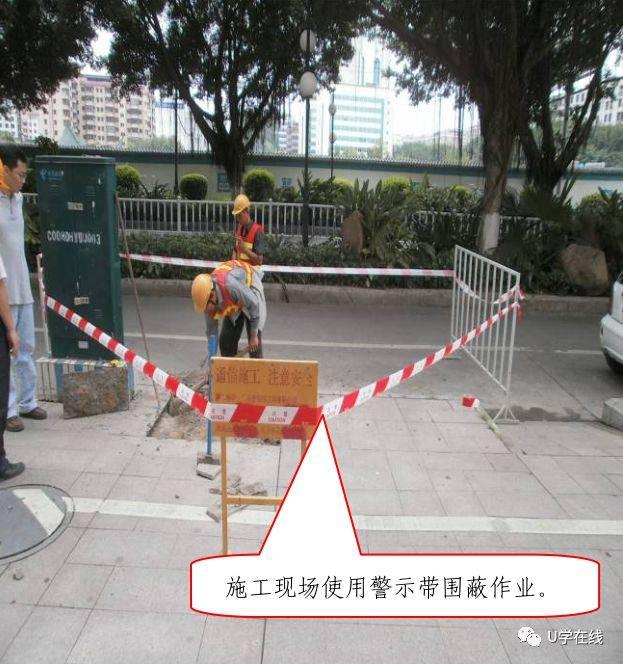helmet: (192, 274, 216, 317), (231, 194, 251, 215)
